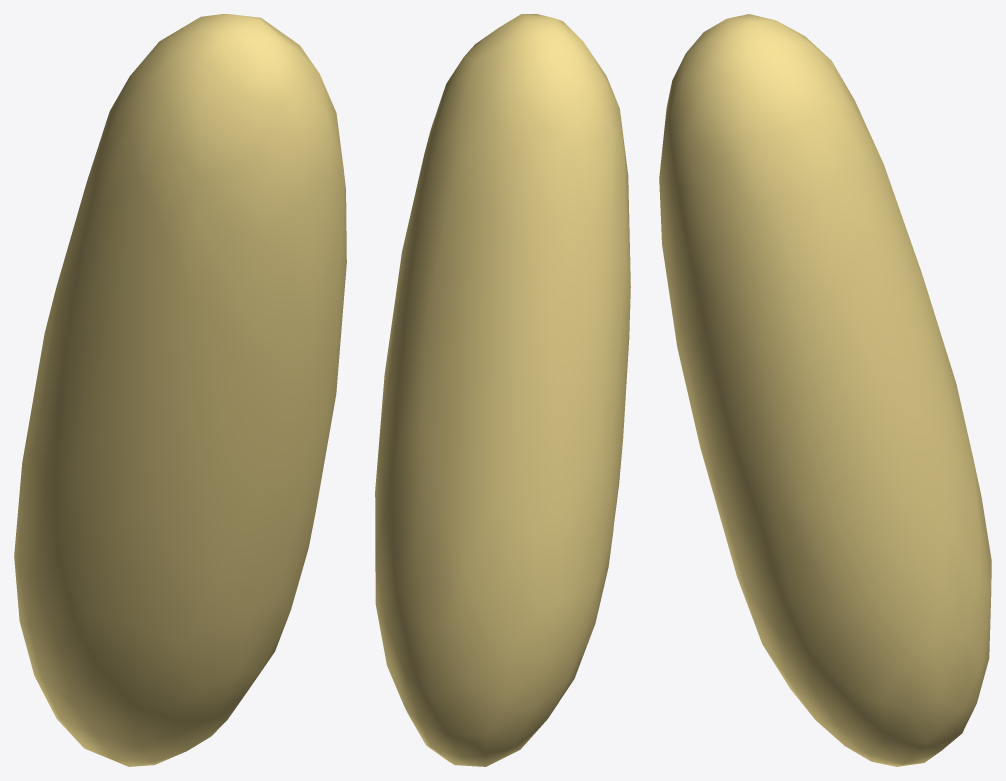
Rendered from fma73572_mm3512m.glb.
The picture shows the model from 3 angles, left to right: view 1: azimuth 30°, elevation 25°; view 2: azimuth 150°, elevation 25°; view 3: azimuth 270°, elevation 25°; orthographic projection. The views are drawn at different scales.
Visible parts, largest first — view 1: FMA73572_MM3512M; view 2: FMA73572_MM3512M; view 3: FMA73572_MM3512M.
Part boxes in pixels (x1,y1,x2,y2): FMA73572_MM3512M: (14,14,346,766); FMA73572_MM3512M: (375,14,630,766); FMA73572_MM3512M: (659,14,991,766).
Bounding box in the file's own units: 0.00162 × 0.00481 × 0.00195.
